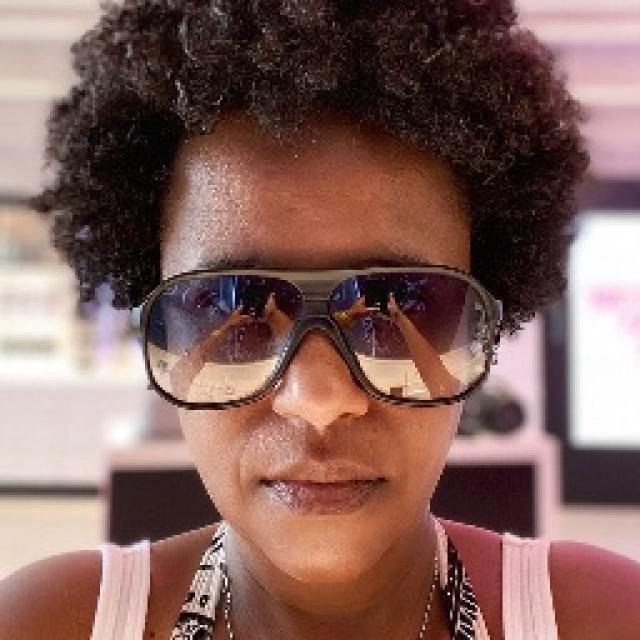glasses: (138, 245, 518, 429)
